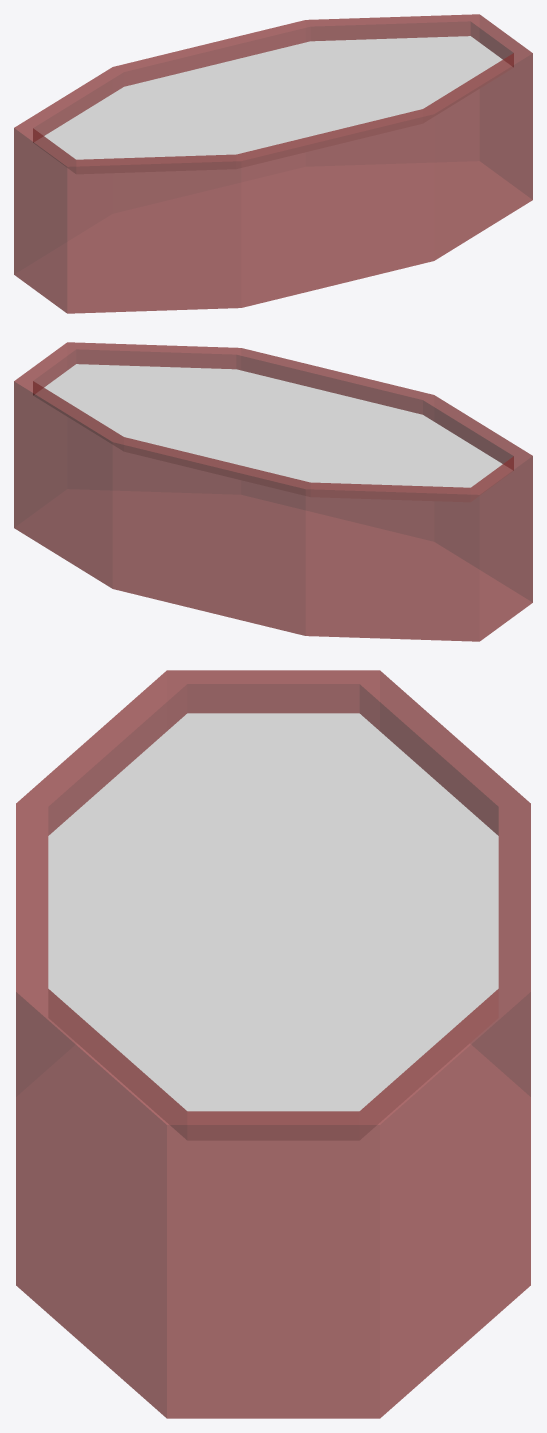
Rendered from RSF.glb.
3 renders of one model, top to bottom at view 1: azimuth 30°, elevation 25°; view 2: azimuth 150°, elevation 25°; view 3: azimuth 270°, elevation 25°, orthographic. The views are drawn at different scales.
Parts seen in each view (by area): view 1: RSF; view 2: RSF; view 3: RSF.
Part boxes in pixels (bbox=[...]): RSF: bbox=[14, 14, 532, 313]; RSF: bbox=[14, 342, 532, 641]; RSF: bbox=[16, 670, 530, 1418].
Size of the model in its own units: 0.0197 by 0.00594 by 0.00943.
